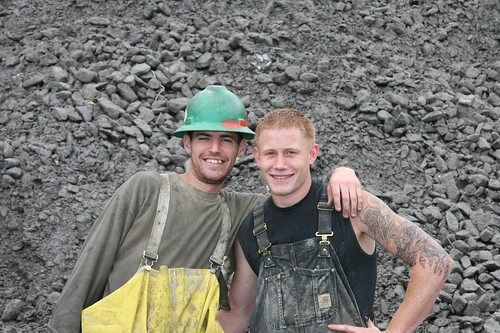person hardhat: (61, 88, 265, 333)
